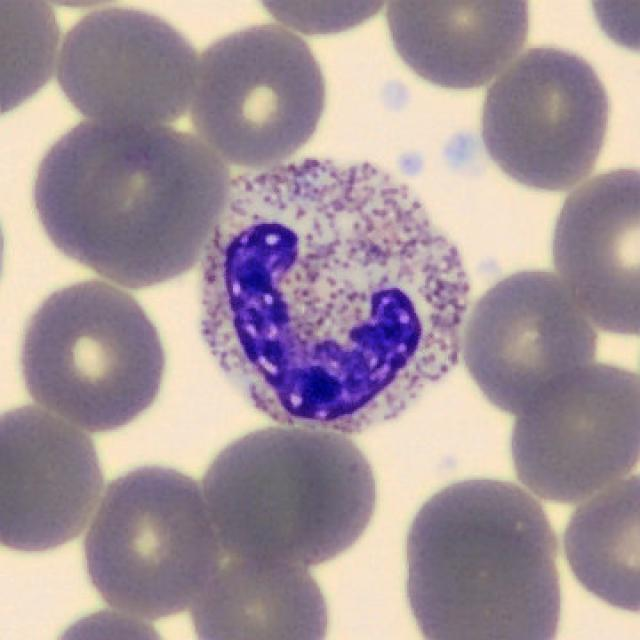Bastonete: (203, 158, 468, 430)
